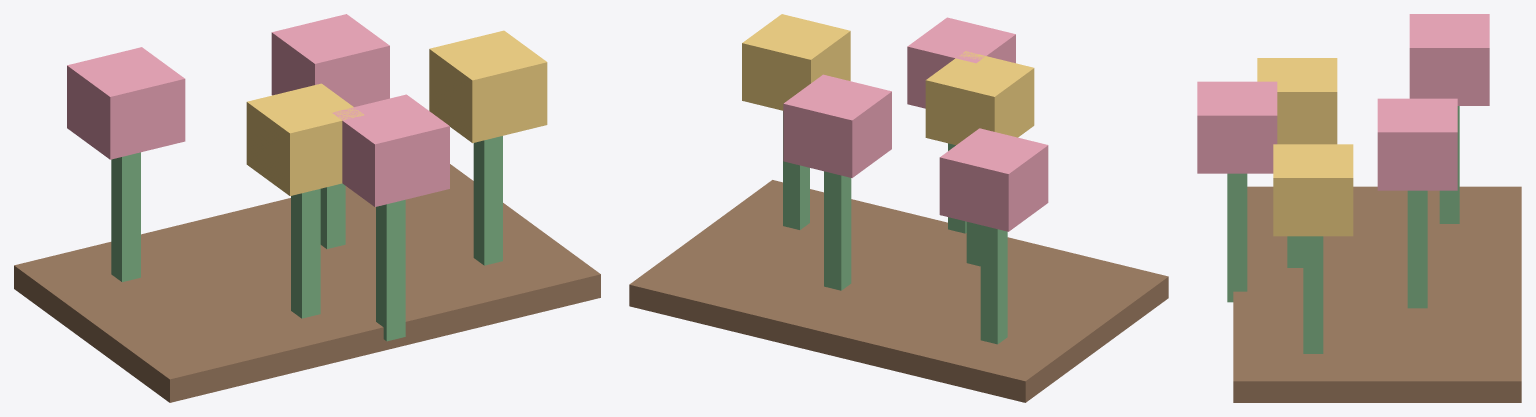
Rendered from flower-patch.glb.
3 views of the same model, side by side, from view 1: azimuth 30°, elevation 25°; view 2: azimuth 150°, elevation 25°; view 3: azimuth 270°, elevation 25° (orthographic). The views are drawn at different scales.
Visible parts, largest first — view 1: PLACEHOLDER_soil-base, PLACEHOLDER_flower-0, PLACEHOLDER_flower-3, PLACEHOLDER_flower-4, PLACEHOLDER_flower-1, PLACEHOLDER_flower-2, PLACEHOLDER_stem-4, PLACEHOLDER_stem-1, PLACEHOLDER_stem-0, PLACEHOLDER_stem-3, PLACEHOLDER_stem-2; view 2: PLACEHOLDER_soil-base, PLACEHOLDER_flower-0, PLACEHOLDER_flower-2, PLACEHOLDER_flower-1, PLACEHOLDER_flower-3, PLACEHOLDER_flower-4, PLACEHOLDER_stem-0, PLACEHOLDER_stem-2, PLACEHOLDER_stem-3, PLACEHOLDER_stem-1; view 3: PLACEHOLDER_soil-base, PLACEHOLDER_flower-2, PLACEHOLDER_flower-3, PLACEHOLDER_flower-4, PLACEHOLDER_flower-0, PLACEHOLDER_flower-1, PLACEHOLDER_stem-4, PLACEHOLDER_stem-2, PLACEHOLDER_stem-3, PLACEHOLDER_stem-0, PLACEHOLDER_stem-1.
Boxes of the visible parts, left/top/right/bottom form: PLACEHOLDER_soil-base: left=14, top=164, right=600, bottom=402; PLACEHOLDER_flower-0: left=67, top=47, right=185, bottom=159; PLACEHOLDER_flower-3: left=429, top=30, right=547, bottom=143; PLACEHOLDER_flower-4: left=332, top=94, right=449, bottom=206; PLACEHOLDER_flower-1: left=246, top=83, right=363, bottom=195; PLACEHOLDER_flower-2: left=271, top=14, right=389, bottom=106; PLACEHOLDER_stem-4: left=376, top=199, right=405, bottom=341; PLACEHOLDER_stem-1: left=291, top=189, right=320, bottom=318; PLACEHOLDER_stem-0: left=111, top=152, right=140, bottom=282; PLACEHOLDER_stem-3: left=473, top=136, right=502, bottom=265; PLACEHOLDER_stem-2: left=320, top=183, right=345, bottom=248; PLACEHOLDER_soil-base: left=629, top=180, right=1168, bottom=402; PLACEHOLDER_flower-0: left=939, top=128, right=1048, bottom=231; PLACEHOLDER_flower-2: left=783, top=74, right=891, bottom=177; PLACEHOLDER_flower-1: left=925, top=51, right=1034, bottom=144; PLACEHOLDER_flower-3: left=742, top=14, right=850, bottom=110; PLACEHOLDER_flower-4: left=907, top=17, right=1015, bottom=108; PLACEHOLDER_stem-0: left=980, top=225, right=1007, bottom=344; PLACEHOLDER_stem-2: left=824, top=171, right=851, bottom=290; PLACEHOLDER_stem-3: left=783, top=111, right=809, bottom=229; PLACEHOLDER_stem-1: left=966, top=222, right=980, bottom=266; PLACEHOLDER_soil-base: left=1233, top=186, right=1521, bottom=402; PLACEHOLDER_flower-2: left=1377, top=98, right=1457, bottom=190; PLACEHOLDER_flower-3: left=1273, top=144, right=1353, bottom=236; PLACEHOLDER_flower-4: left=1197, top=81, right=1277, bottom=173; PLACEHOLDER_flower-0: left=1409, top=14, right=1489, bottom=105; PLACEHOLDER_flower-1: left=1257, top=58, right=1337, bottom=144; PLACEHOLDER_stem-4: left=1227, top=173, right=1247, bottom=302; PLACEHOLDER_stem-2: left=1407, top=190, right=1427, bottom=308; PLACEHOLDER_stem-3: left=1303, top=236, right=1323, bottom=353; PLACEHOLDER_stem-0: left=1439, top=106, right=1459, bottom=223; PLACEHOLDER_stem-1: left=1287, top=236, right=1303, bottom=267.
Size of the model in its own units: 1.15 by 0.58 by 0.81.
